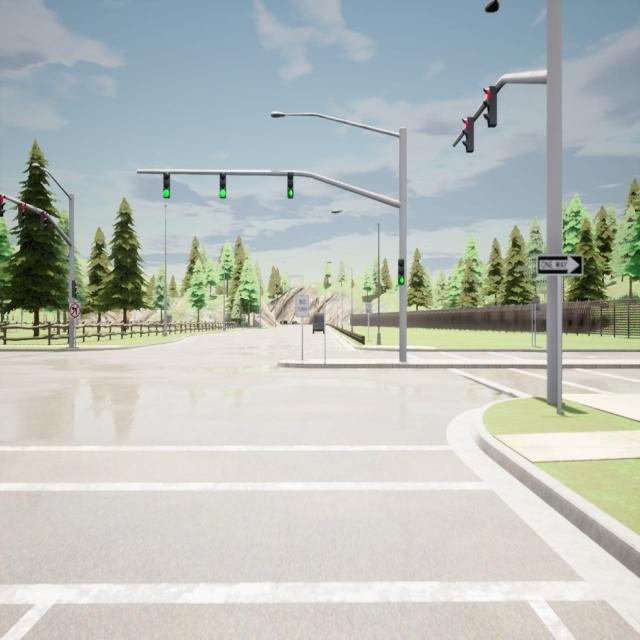Traffic_Signs: (538, 256, 584, 276), (296, 296, 308, 317), (69, 304, 80, 318), (366, 303, 372, 314)
Vehicle: (312, 313, 324, 334), (279, 320, 288, 325), (290, 320, 297, 325)
traffic_light: (483, 86, 497, 128), (462, 117, 474, 153), (163, 172, 170, 198), (18, 202, 26, 222), (288, 172, 294, 198), (398, 259, 404, 285), (220, 174, 226, 198), (0, 195, 6, 216), (41, 212, 48, 230), (72, 280, 78, 298)
